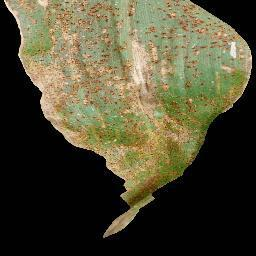Corn_Common_Rust: (17, 48, 254, 97), (2, 0, 242, 47), (40, 96, 237, 132), (57, 132, 207, 179), (100, 179, 176, 243)
